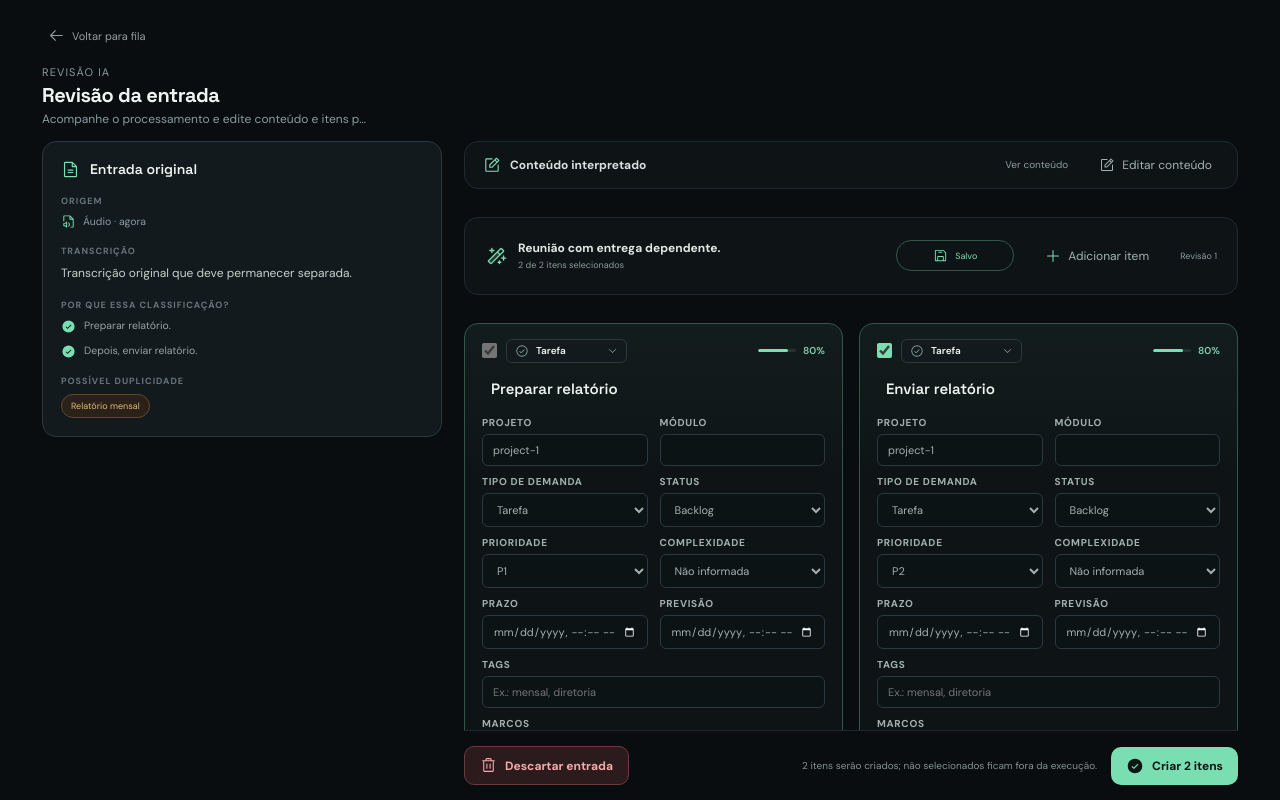
it: front do harness supervisionado › descarta a proposta na etapa final sem executar cards
Click the button "Descartar entrada".
click(546, 766)  # box [464,746,629,785]
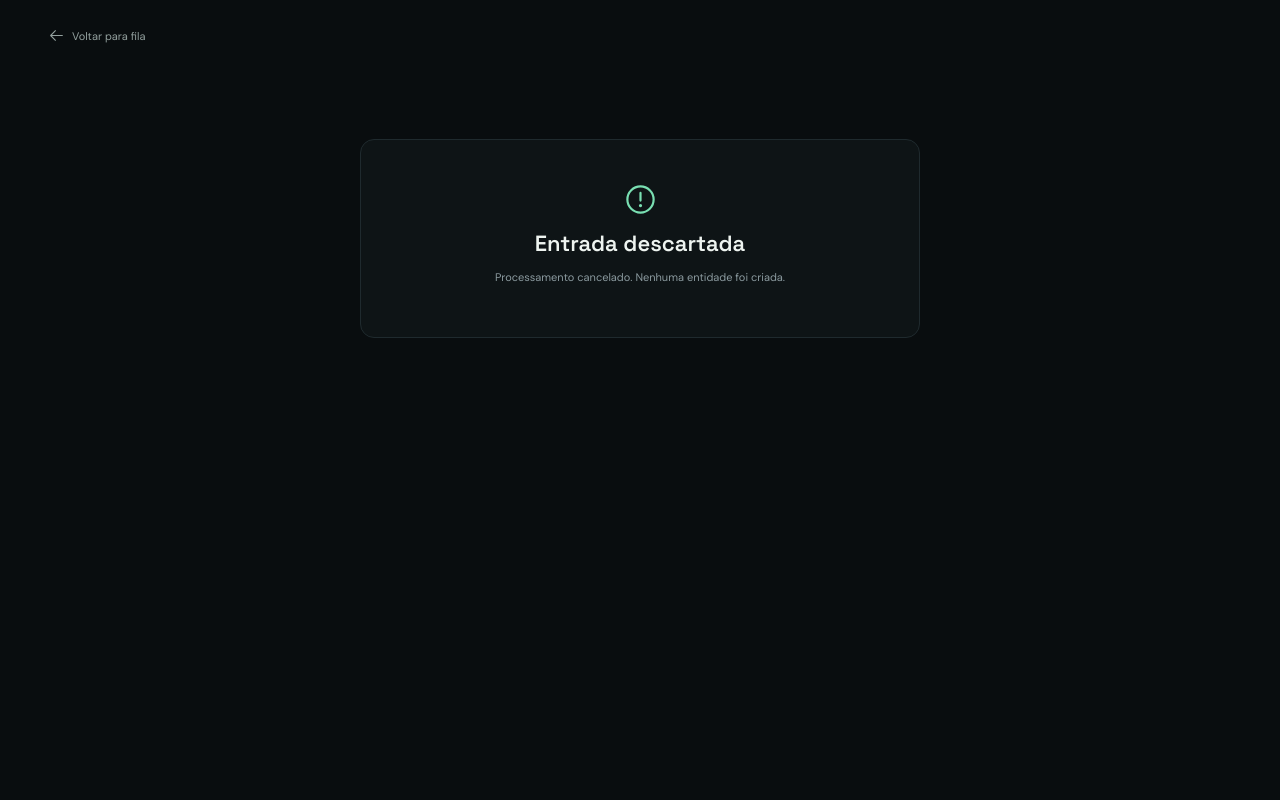
Expected: the heading "Entrada descartada" is shown, [535,229,745,257]
